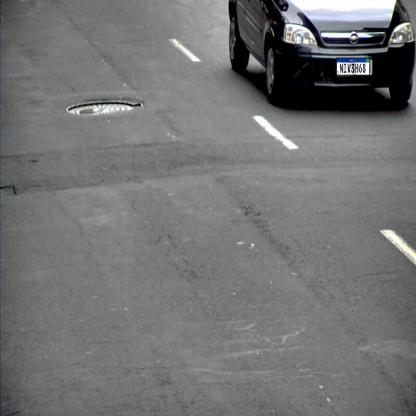PlacaM: (336, 57, 370, 76)
